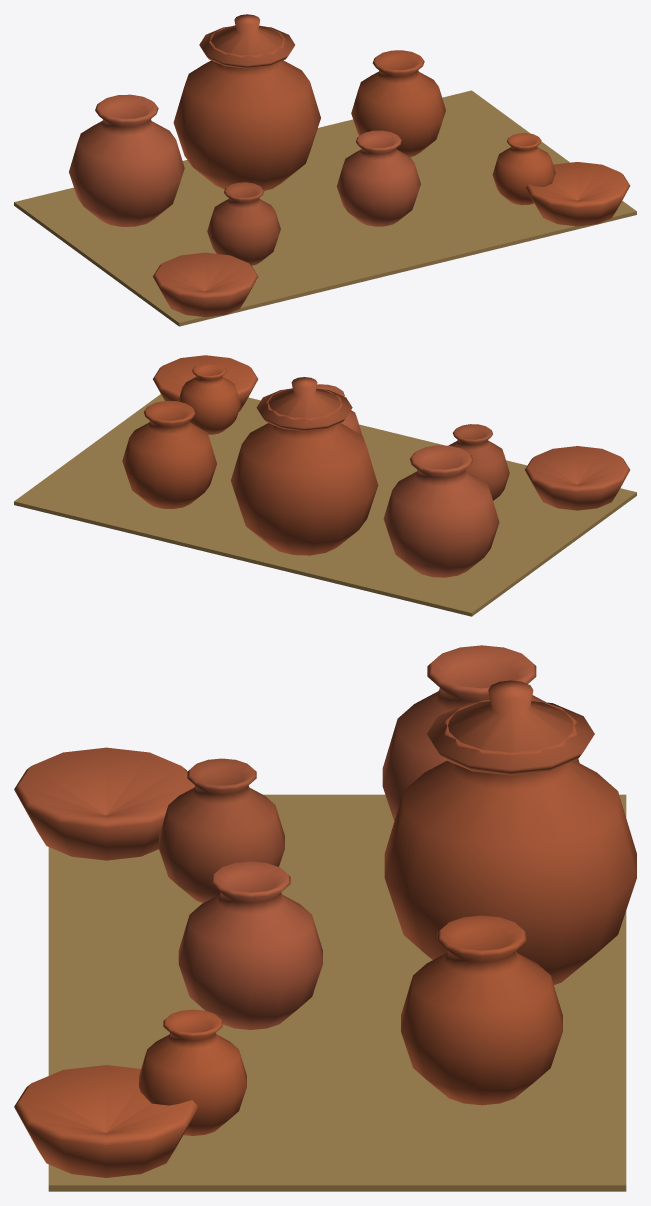
Rendered from PRP_Pottery_Display_A.glb.
3 views of the same model, one above another, from view 1: azimuth 30°, elevation 25°; view 2: azimuth 150°, elevation 25°; view 3: azimuth 270°, elevation 25° (orthographic). The views are drawn at different scales.
Visible parts, largest first — view 1: PRP_Pottery_Display_A_Mesh; view 2: PRP_Pottery_Display_A_Mesh; view 3: PRP_Pottery_Display_A_Mesh.
Boxes of the visible parts, x1,y1,x2,y2 form: PRP_Pottery_Display_A_Mesh: [14, 14, 636, 326]; PRP_Pottery_Display_A_Mesh: [14, 355, 636, 616]; PRP_Pottery_Display_A_Mesh: [14, 645, 636, 1191].
Bounding box in the file's own units: 1.62 × 0.544 × 1.08.
